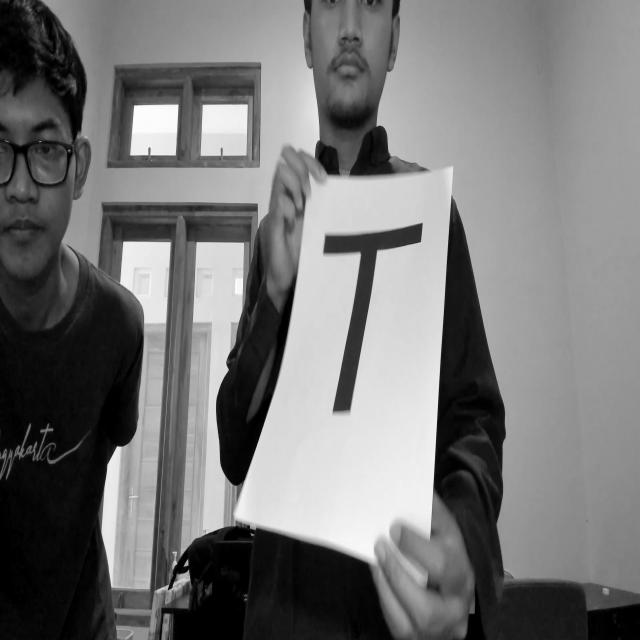t: (305, 204, 428, 452)
